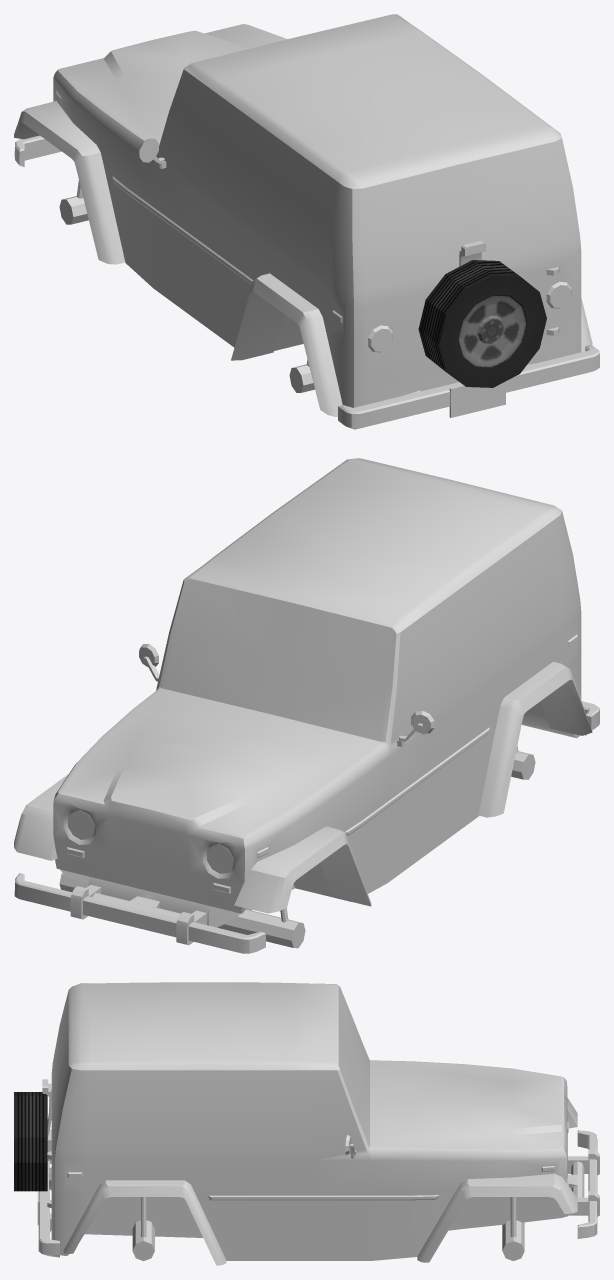
File: LXTHopper.fbx
3 views of the same model, one above another, from view 1: azimuth 30°, elevation 25°; view 2: azimuth 150°, elevation 25°; view 3: azimuth 270°, elevation 25° (orthographic). The views are drawn at different scales.
Visible parts, largest first — view 1: Hopper, SpareWheel; view 2: Hopper; view 3: Hopper, SpareWheel.
Boxes of the visible parts, x1=… form: Hopper: x1=14, y1=14, x2=599, y2=429; SpareWheel: x1=418, y1=260, x2=546, y2=387; Hopper: x1=14, y1=458, x2=599, y2=953; Hopper: x1=37, y1=982, x2=599, y2=1265; SpareWheel: x1=14, y1=1092, x2=47, y2=1191.
Bounding box in the file's own units: 2.45 × 1.93 × 5.25.
